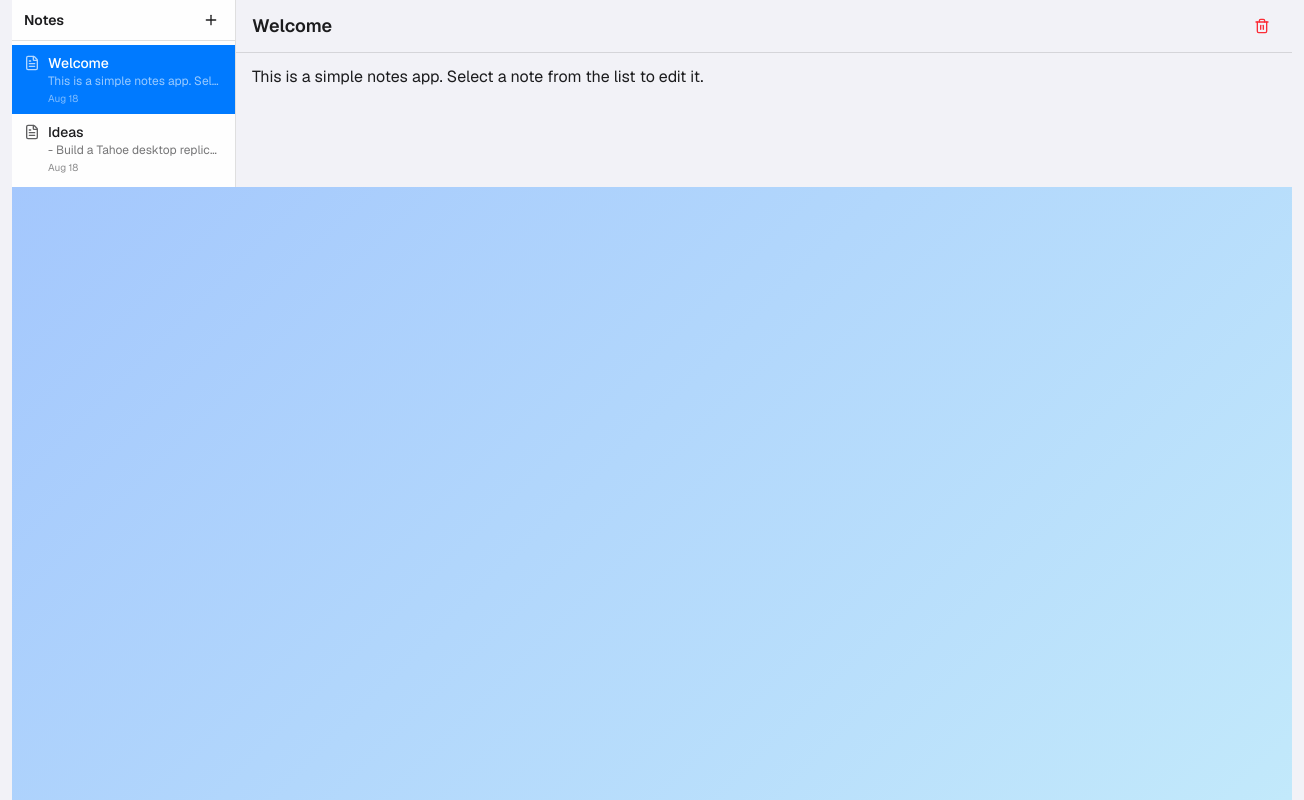
Test: Notes › deletes the active note and selects another
What coordinates should you click on to do the following:
click the button with test id "notes-delete"
I would click on:
 (1262, 26)
Its box is [1248,12,1276,40].
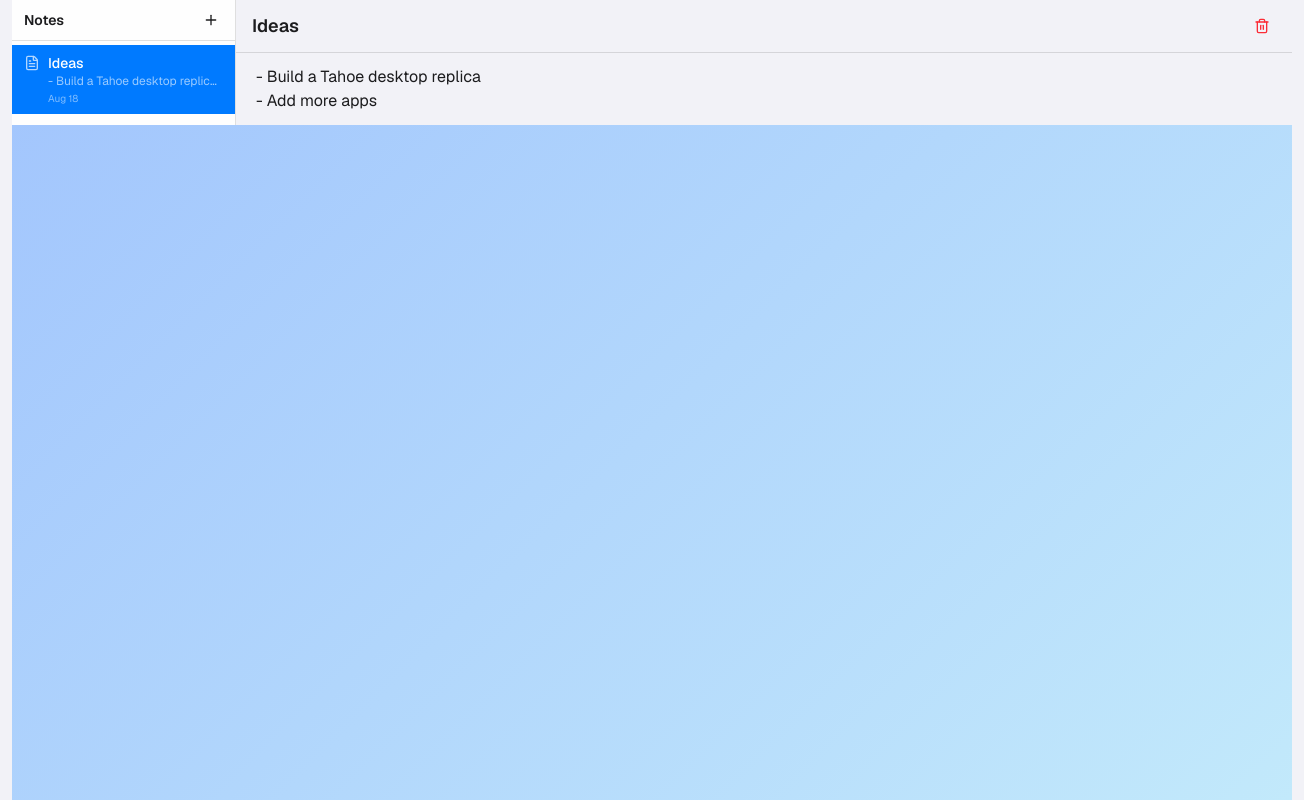
Result: the field with test id "notes-title" holds "Ideas" at [252,12,1240,40]
